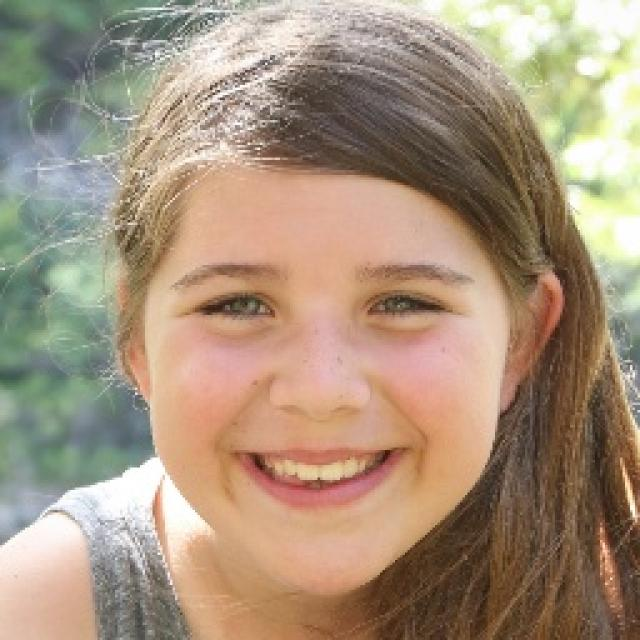earlobe: (498, 372, 522, 416), (136, 376, 158, 407)
eye: (199, 291, 280, 327), (368, 290, 446, 322)
nose: (268, 399, 369, 439)
wholeear: (499, 258, 566, 414), (114, 263, 158, 407)
